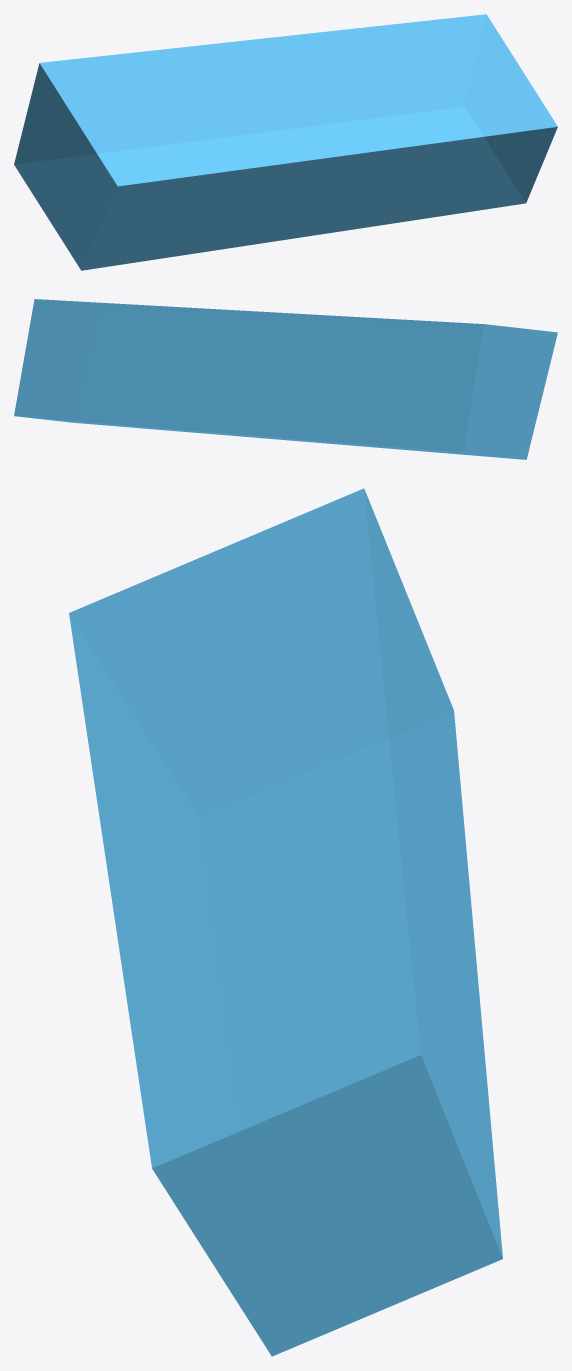
Rendered from Event_421115418_HErechit_25.fbx.
The picture shows the model from 3 angles, top to bottom: view 1: azimuth 30°, elevation 25°; view 2: azimuth 150°, elevation 25°; view 3: azimuth 270°, elevation 25°; orthographic projection. The views are drawn at different scales.
Visible parts, largest first — view 1: Model; view 2: Model; view 3: Model.
Part boxes in pixels (x1,y1,x2,y2): Model: [14, 14, 557, 270]; Model: [14, 299, 557, 459]; Model: [69, 488, 502, 1356].
Bounding box in the file's own units: 0.9964 × 0.4831 × 0.4286.
